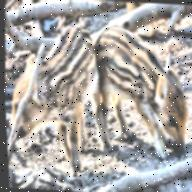boar: (85, 17, 192, 165), (1, 14, 105, 159)
